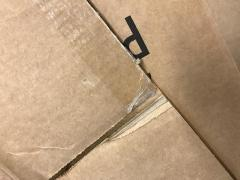cardboard: (0, 0, 240, 180)
